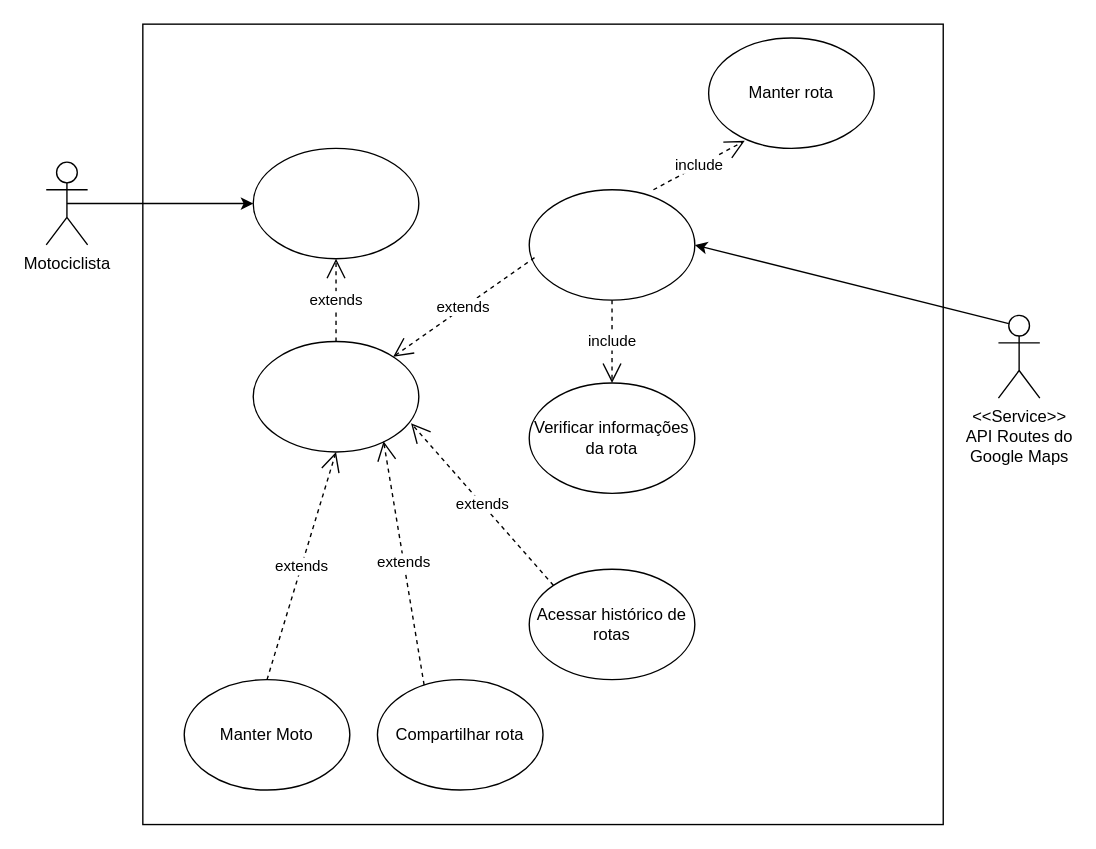
The diagram is 1096 pixels wide and 849 high, and some of its shapes have lost their labels. The shapes that lost their labels are listed below. From the top down, each one's centre as x and y in pixels, then its label:
point 335,203: Realizar Cadastro de Usuário
point 611,244: Planejar rota
point 335,396: Fazer Login
